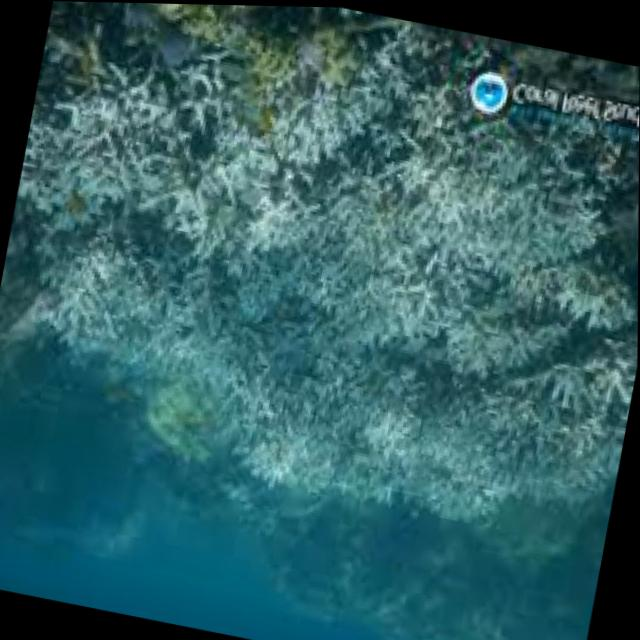Dead Coral: (46, 26, 640, 531)
